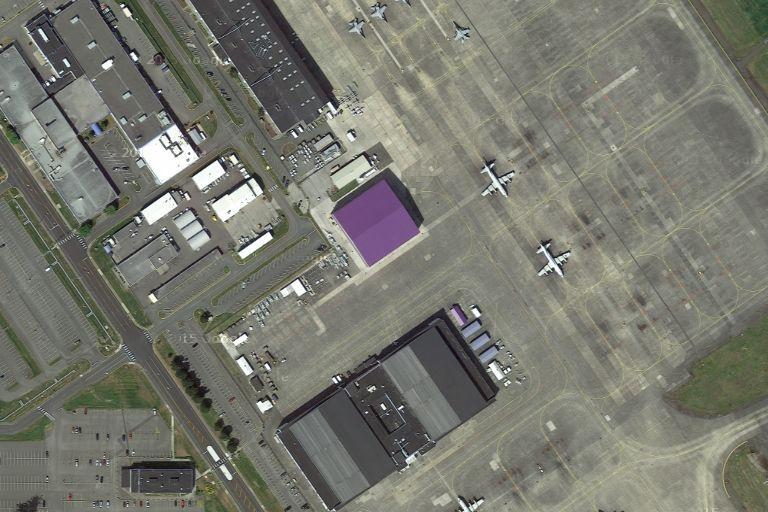EP-3: (536, 237, 570, 278)
F/A-18: (449, 19, 475, 45), (343, 16, 369, 40), (366, 1, 391, 25)
P-3C: (481, 157, 514, 200)
